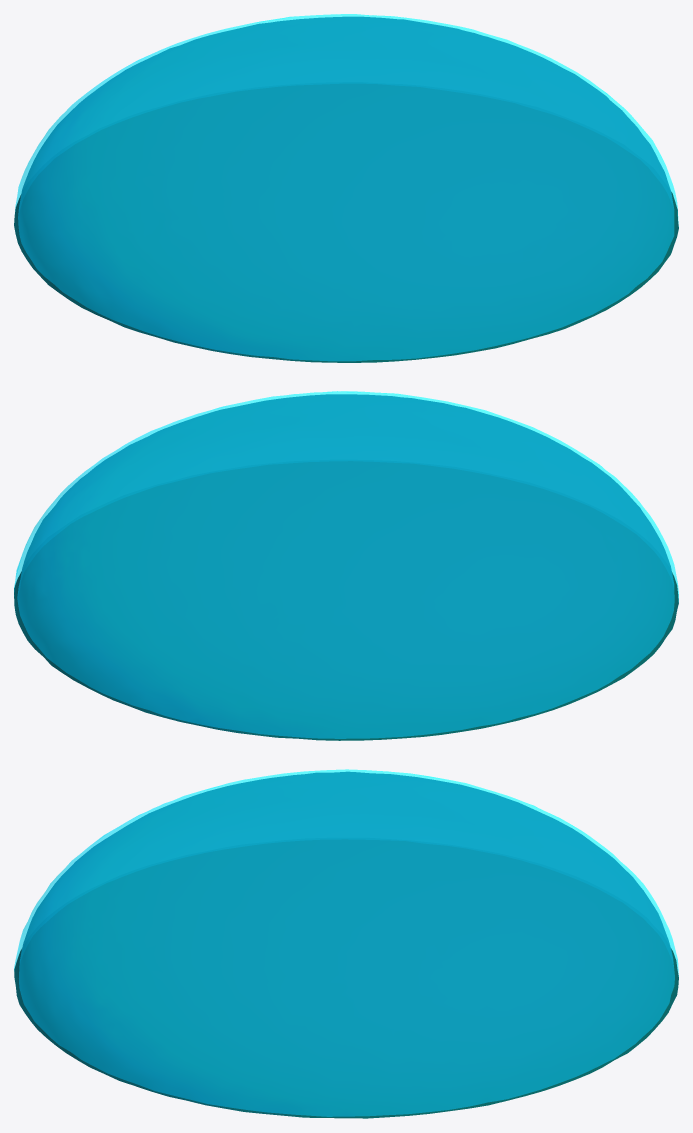
The model's file is wATERII.fbx.
3 renders of one model, top to bottom at view 1: azimuth 30°, elevation 25°; view 2: azimuth 150°, elevation 25°; view 3: azimuth 270°, elevation 25°, orthographic.
Parts seen in each view (by area): view 1: Cube.003; view 2: Cube.003; view 3: Cube.003.
Part boxes in pixels (x1=…): Cube.003: x1=14, y1=14, x2=678, y2=362; Cube.003: x1=14, y1=391, x2=678, y2=740; Cube.003: x1=14, y1=769, x2=678, y2=1118.
Size of the model in its own units: 10006 by 2564 by 10011.
